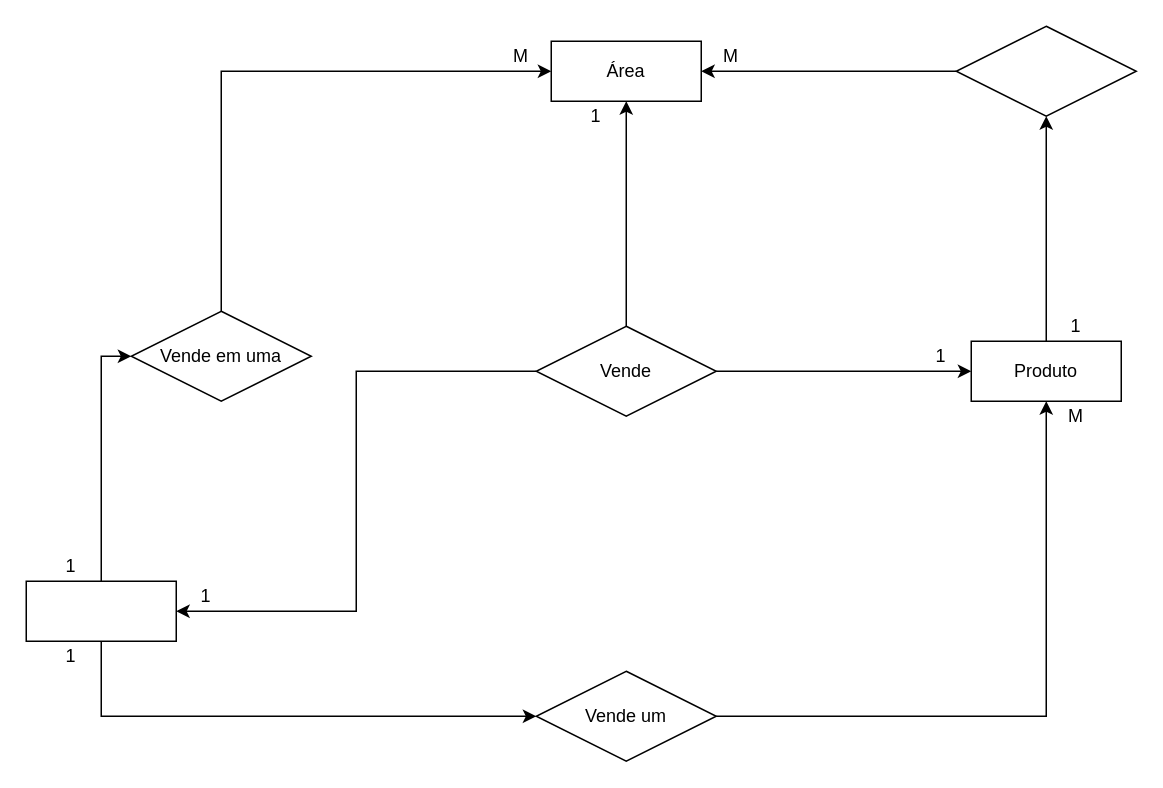
The diagram is 1163 pixels wide and 788 high, and some of its shapes have lost their labels. Here are the shapes that lost their labels. From the top down, the centre of each, then its label:
At point (1045, 70): "É vendido em".
At point (100, 610): "Representante".
